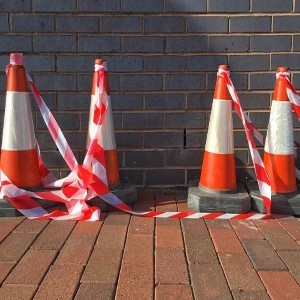traffic cone: (64, 57, 136, 209), (1, 54, 65, 216), (187, 64, 251, 214), (245, 65, 298, 215)
